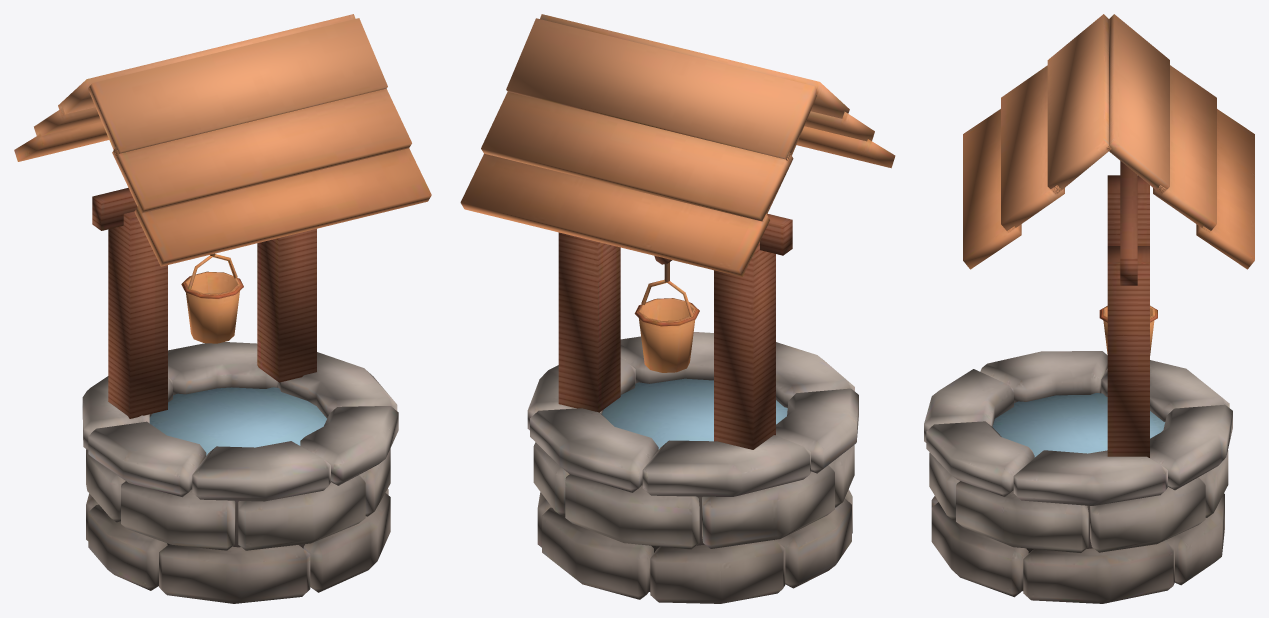
Rendered from well_3_low.glb.
The picture shows the model from 3 angles, left to right: view 1: azimuth 30°, elevation 25°; view 2: azimuth 150°, elevation 25°; view 3: azimuth 270°, elevation 25°; orthographic projection. The views are drawn at different scales.
Visible parts, largest first — view 1: well_3; view 2: well_3; view 3: well_3.
Part boxes in pixels (x1,y1,x2,y2): well_3: [14, 14, 431, 603]; well_3: [460, 14, 895, 603]; well_3: [924, 14, 1254, 603].
Size of the model in its own units: 1.24 by 2.07 by 1.33.
Materials: 1 (1 with a texture image).
